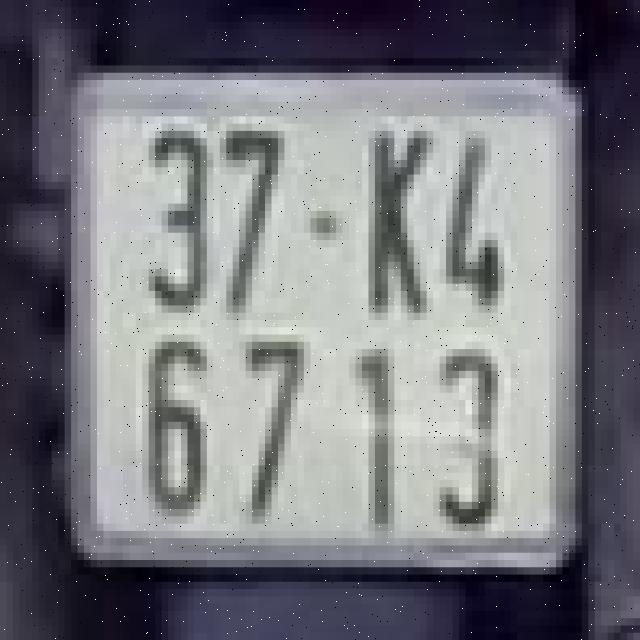1: (343, 327, 394, 531)
3: (430, 331, 507, 527), (146, 116, 217, 313)
4: (437, 109, 508, 320)
6: (120, 331, 216, 527)
7: (230, 316, 307, 542), (220, 109, 297, 313)
K: (356, 124, 440, 327)
